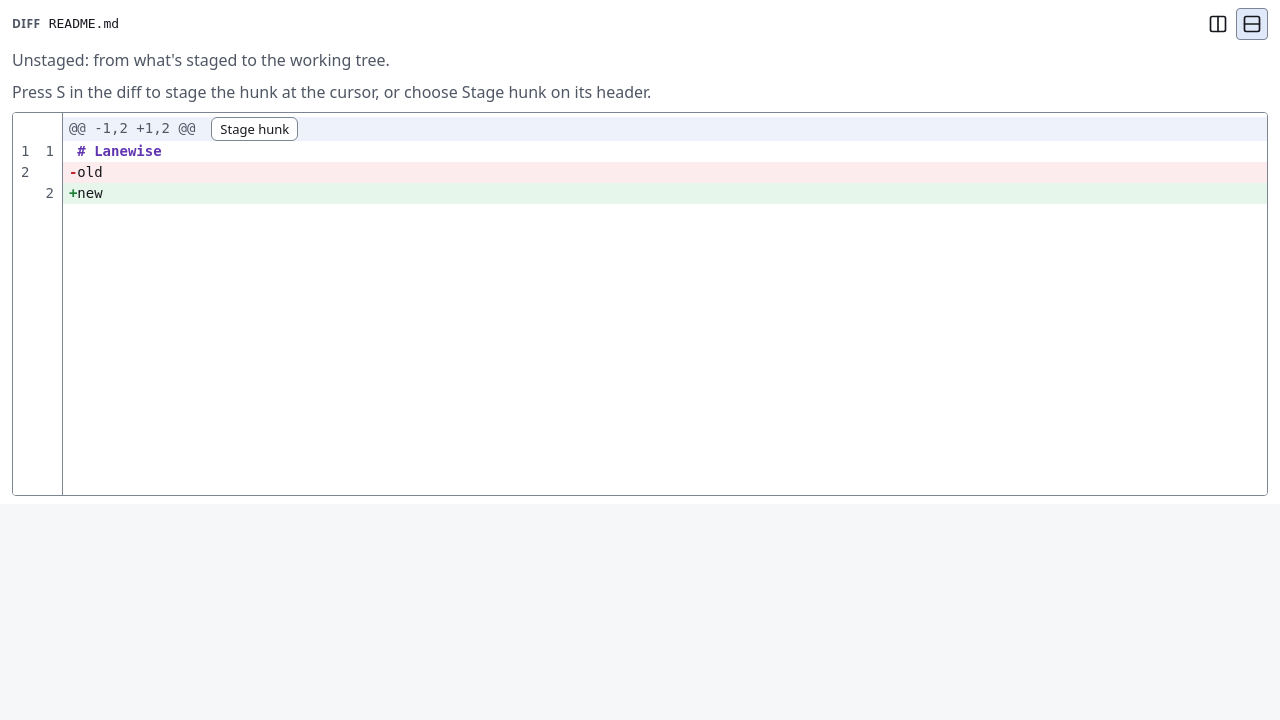
Test: a hunk Git fails to stage says what Git said
Click the button with class "diff-hunk-action". click: click(255, 129)
box: top-left (211, 117), bottom-right (298, 141)
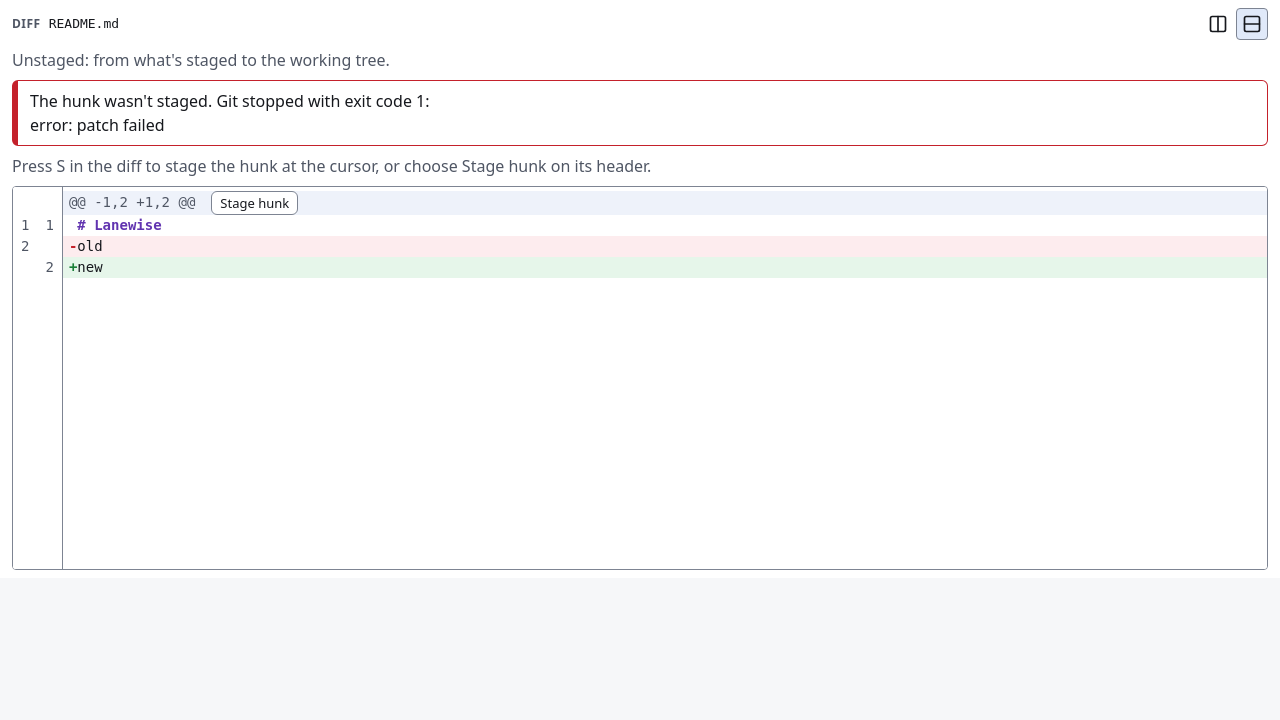
Check: the message reads "The hunk wasn't staged. Git stopped with exit code 1: error: patch failed", box top-left (30, 90), bottom-right (430, 136)
